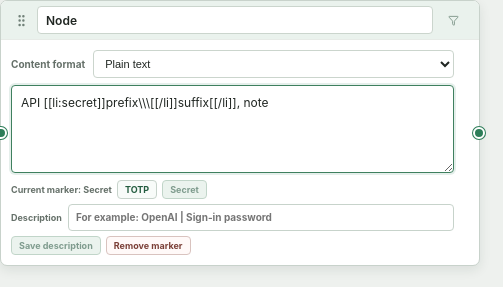
Test case: InformationNodeCard › removes only the marker wrapper and keeps the decoded payload
Click the button "Remove marker" at (148, 245), box [106,236,191,255]
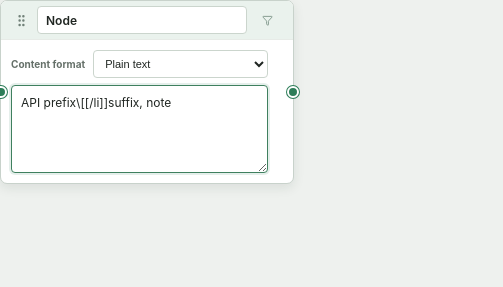
Expected: the text box named "Content" holds "API prefix\\[ [/li]]suffix, note", [11,85,268,173]
